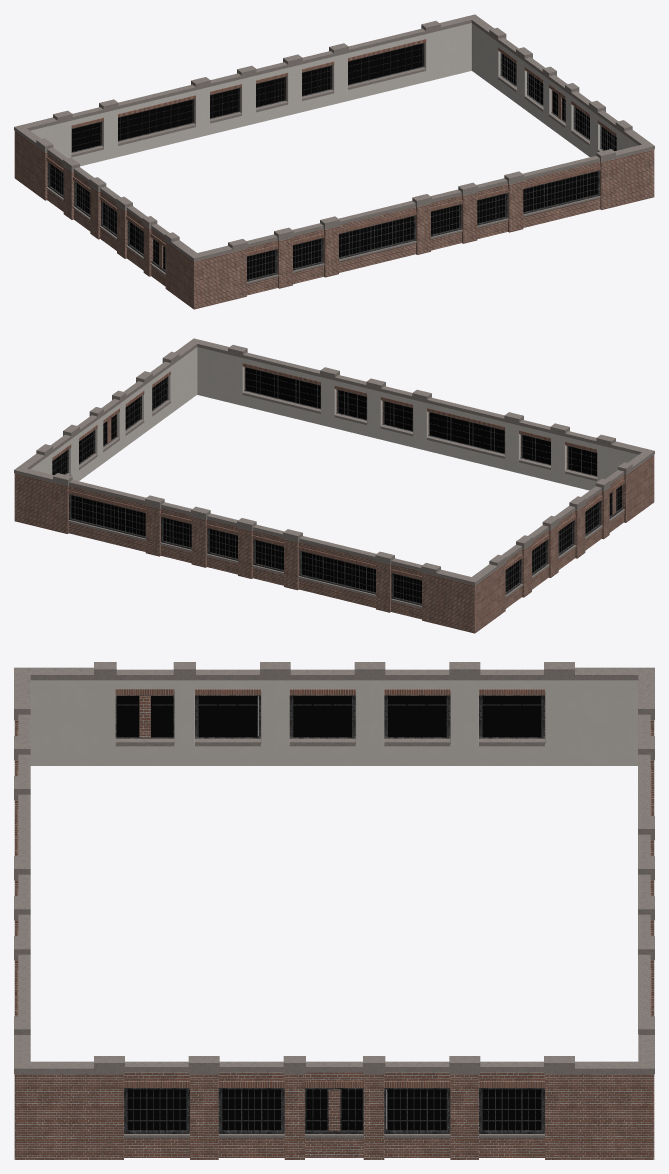
The model's file is BuildingA_Top_VarB.fbx.
3 views of the same model, one above another, from view 1: azimuth 30°, elevation 25°; view 2: azimuth 150°, elevation 25°; view 3: azimuth 270°, elevation 25° (orthographic). The views are drawn at different scales.
Parts seen in each view (by area): view 1: BuildingA_Top_VarB; view 2: BuildingA_Top_VarB; view 3: BuildingA_Top_VarB.
Part boxes in pixels (left/top/right/bottom): BuildingA_Top_VarB: left=14, top=14, right=654, bottom=309; BuildingA_Top_VarB: left=14, top=338, right=654, bottom=633; BuildingA_Top_VarB: left=14, top=662, right=654, bottom=1159.
Bounding box in the file's own units: 4007 × 452 × 2707.
